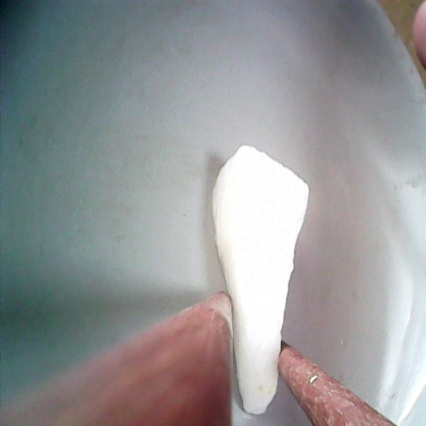white_chinese-yam: (203, 143, 315, 415)
